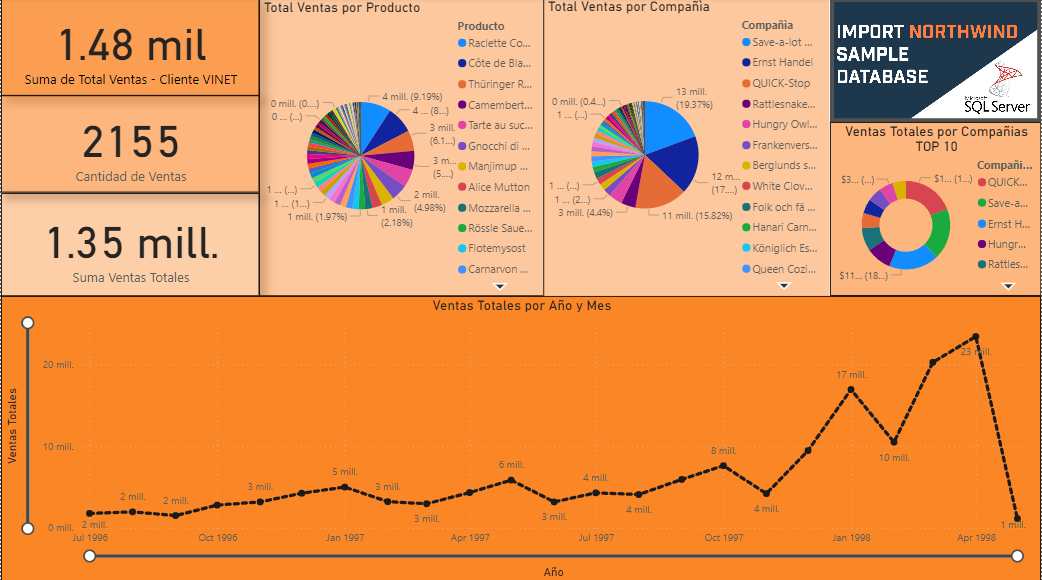

Layout of this report page (visuals, bound fields, positions):
{"tool":"powerbi","page":{"name":"Dashboard(1)","canvas":[1280,720],"ordinal":0},"visuals":[{"type":"card","fields":{"Values":["Sum(Ventas por Cliente.Total Sales Por Cliente)"]},"box":[0,0,317.7,120.6],"z":0},{"type":"card","fields":{"Values":["Sum(Cantidad de Ventas.Quantity of Sales)"]},"box":[0,120,317.8,120],"z":1000},{"type":"card","fields":{"Values":["Sum(Ventas Totales.Total Sales)"]},"box":[0,240,317.8,127],"z":2000},{"type":"image","box":[1020,0,260,152.9],"z":3000},{"type":"lineChart","fields":{"Y":["Order Details.SubtotalOfSales"],"Category":["Orders.OrderDate.Variación.Jerarquía de fechas.Año","Orders.OrderDate.Variación.Jerarquía de fechas.Mes"]},"box":[0,367.1,1280,351.4],"z":4000},{"type":"pieChart","fields":{"Y":["Order Details.SubtotalOfSales"],"Category":["Products.ProductName"]},"box":[317.1,0,351.4,367.1],"z":5000},{"type":"pieChart","fields":{"Y":["Order Details.SubtotalOfSales"],"Category":["Customers.CompanyName"]},"box":[668.6,0,351.4,367.1],"z":6000},{"type":"donutChart","fields":{"Y":["Sum(vw_clientsTop.Total Sales)"],"Series":["vw_clientsTop.CompanyName"]},"box":[1020,153,260,214],"z":7000}]}

Visuals, with their boxes in screenshot pixels (x1, y1, x2, y2), scaled from the page's 1280x720 canvas onto the 1042x580 screenshot:
card - Sum(Ventas por Cliente.Total Sales Por Cliente): bbox(0, 0, 259, 97)
card - Sum(Cantidad de Ventas.Quantity of Sales): bbox(0, 97, 259, 193)
card - Sum(Ventas Totales.Total Sales): bbox(0, 193, 259, 296)
image: bbox(830, 0, 1041, 123)
lineChart - Order Details.SubtotalOfSales x Orders.OrderDate.Variación.Jerarquía de fechas.Año: bbox(0, 296, 1041, 579)
pieChart - Order Details.SubtotalOfSales x Products.ProductName: bbox(258, 0, 544, 296)
pieChart - Order Details.SubtotalOfSales x Customers.CompanyName: bbox(544, 0, 830, 296)
donutChart - Sum(vw_clientsTop.Total Sales) x vw_clientsTop.CompanyName: bbox(830, 123, 1041, 296)
